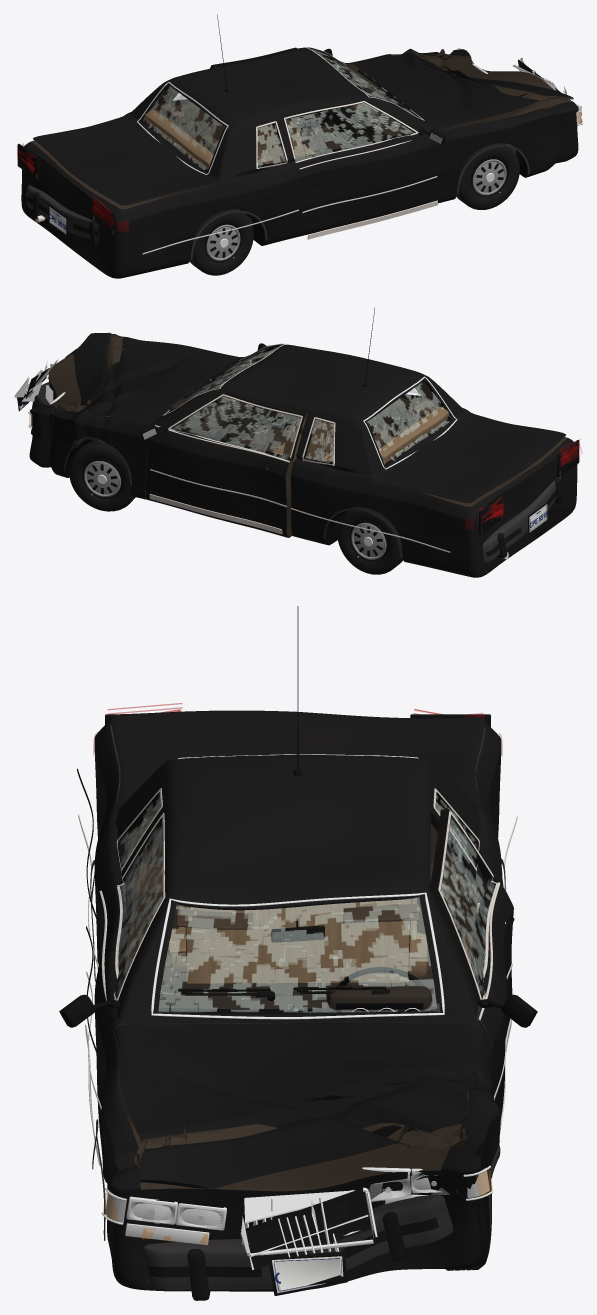
File: coupe84_front_corner_d1.glb
3 views of the same model, one above another, from view 1: azimuth 30°, elevation 25°; view 2: azimuth 150°, elevation 25°; view 3: azimuth 270°, elevation 25° (orthographic). The views are drawn at different scales.
Parts seen in each view (by area): view 1: Body, Door_FR, Trunk, Hood, Interior, Glass, Glass_FR, Wheel_FR_mesh, Wheel_RR_mesh, Trim_FR, Ends, Trim (+3 smaller); view 2: Body, Door_FL, Hood, Trunk, Interior, Glass, Wheel_FL_mesh, Wheel_RL_mesh, Glass_FL, Ends, Trim_FL, Trim (+3 smaller); view 3: Body, Hood, Interior, Glass, Trunk, Ends, Bumper_F, Door_FL, Door_FR, Trim, Glass_FL, Trim_FR (+3 smaller).
Part boxes in pixels (<box>): Body: <box>21,47,578,278</box>; Door_FR: <box>283,100,441,236</box>; Trunk: <box>33,115,217,205</box>; Hood: <box>348,52,573,131</box>; Interior: <box>145,64,410,169</box>; Glass: <box>137,47,424,174</box>; Glass_FR: <box>284,101,414,163</box>; Wheel_FR_mesh: <box>456,143,519,209</box>; Wheel_RR_mesh: <box>189,209,253,275</box>; Trim_FR: <box>284,101,446,239</box>; Ends: <box>17,48,582,236</box>; Trim: <box>142,14,529,259</box>; Body: <box>29,344,577,577</box>; Door_FL: <box>145,392,305,537</box>; Hood: <box>72,332,241,426</box>; Trunk: <box>375,411,565,502</box>; Interior: <box>170,365,448,463</box>; Glass: <box>162,343,457,469</box>; Wheel_FL_mesh: <box>69,440,135,511</box>; Wheel_RL_mesh: <box>337,506,403,574</box>; Glass_FL: <box>172,394,303,463</box>; Ends: <box>14,347,579,534</box>; Trim_FL: <box>139,394,302,534</box>; Trim: <box>63,308,454,558</box>; Body: <box>94,721,501,1291</box>; Hood: <box>113,1022,482,1188</box>; Interior: <box>159,898,436,1011</box>; Glass: <box>120,754,476,1019</box>; Trunk: <box>111,710,484,808</box>; Ends: <box>101,714,493,1295</box>; Bumper_F: <box>142,1194,453,1300</box>; Door_FL: <box>429,809,513,1117</box>; Door_FR: <box>94,812,166,1154</box>; Trim: <box>77,606,517,1240</box>; Glass_FL: <box>437,817,497,993</box>; Trim_FR: <box>59,812,165,1165</box>.
Bounding box in the file's own units: 5.16 × 2.17 × 2.13.
Materials: 34 (5 with a texture image).
